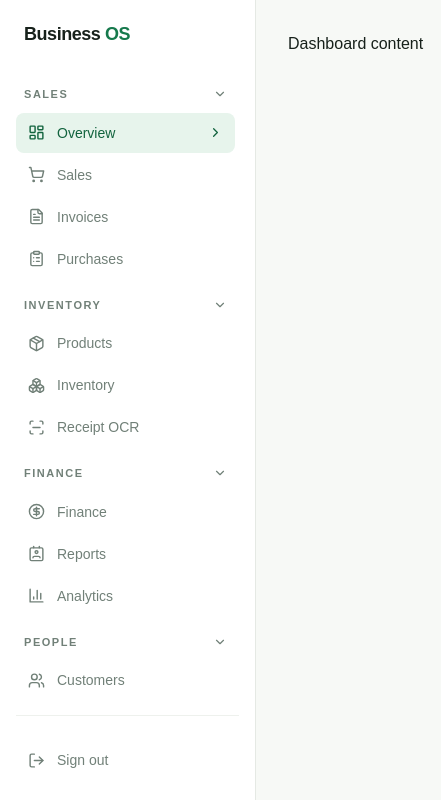
Test: grouped navigation › collapses and expands a group through its ARIA control
Click the button "Finance" at point(126, 473), box [16, 459, 235, 488]
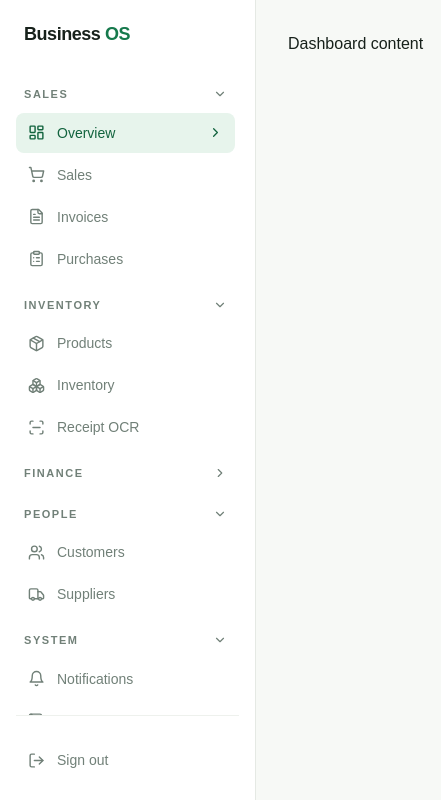
expect the button "Finance" is collapsed: met, box [16, 459, 235, 488]
